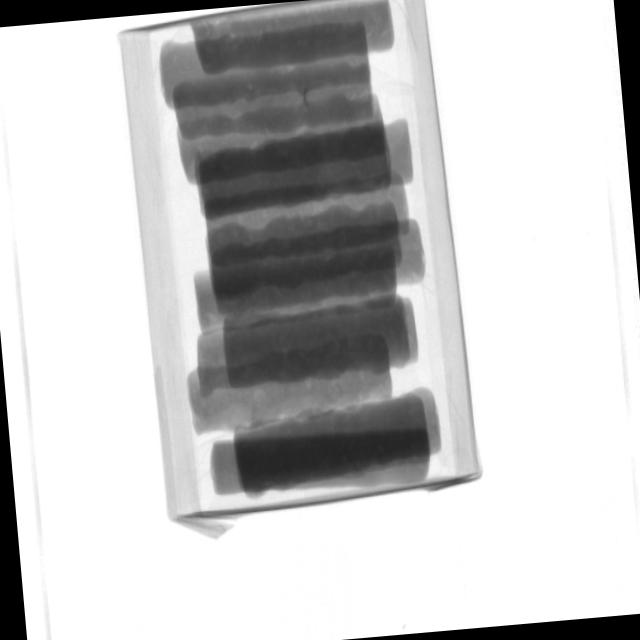ym: (302, 90, 311, 109)
